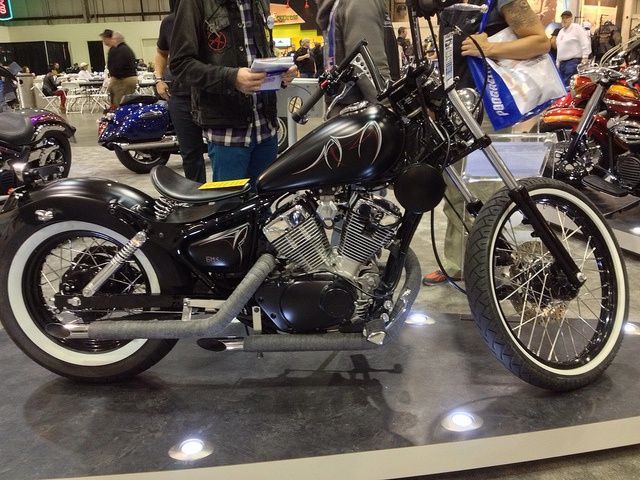non-vehicle: (0, 0, 632, 395), (526, 39, 639, 199), (2, 110, 75, 201), (97, 95, 178, 174)
